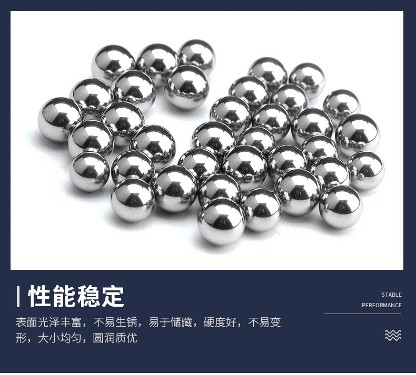ironball: (196, 196, 245, 246), (150, 164, 197, 213), (273, 167, 320, 216), (220, 144, 267, 192), (36, 96, 83, 143), (98, 100, 144, 147), (163, 64, 209, 110), (128, 124, 175, 169), (110, 176, 154, 223), (110, 68, 155, 113), (334, 113, 380, 157), (318, 184, 362, 229), (135, 42, 179, 86), (90, 44, 135, 87), (239, 187, 282, 232), (68, 77, 113, 120), (190, 120, 236, 161), (66, 119, 113, 159), (209, 95, 251, 137), (290, 106, 333, 147), (67, 151, 109, 192), (176, 147, 220, 185), (266, 144, 308, 183), (250, 102, 290, 142), (345, 150, 384, 191), (110, 149, 154, 185), (196, 173, 241, 208), (308, 155, 350, 191), (176, 38, 215, 76), (246, 56, 287, 92), (228, 75, 269, 111), (322, 88, 360, 126), (288, 62, 325, 99), (269, 82, 308, 116), (300, 134, 338, 167), (236, 125, 275, 157)
